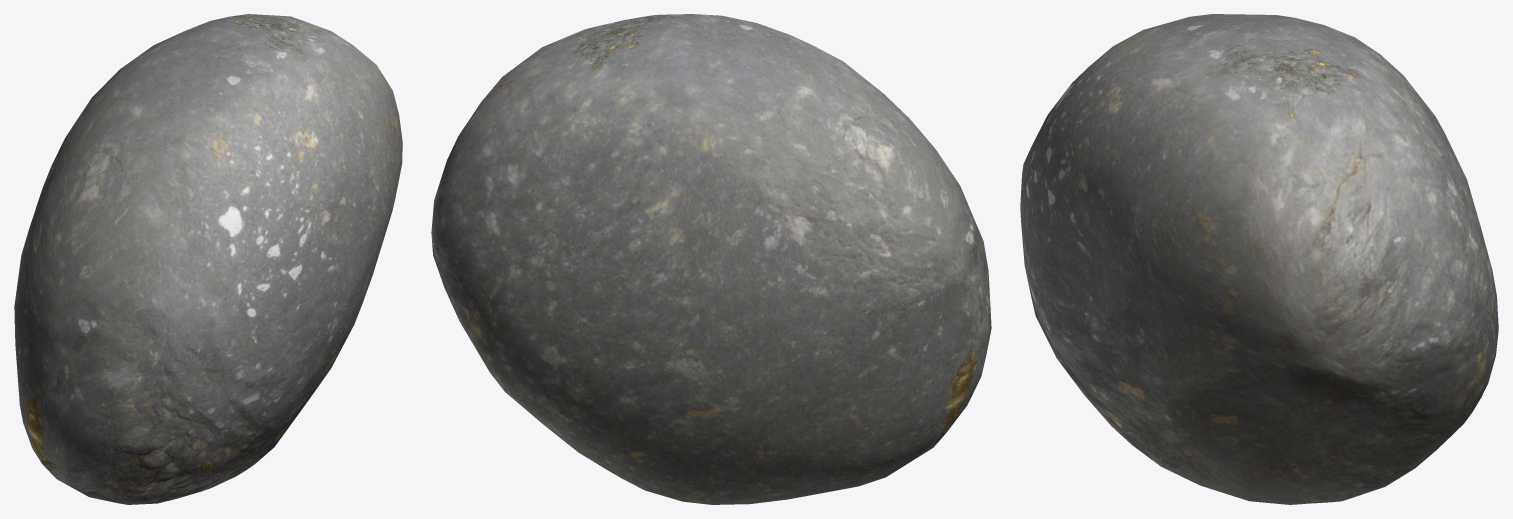
The picture shows the model from 3 angles, left to right: view 1: azimuth 30°, elevation 25°; view 2: azimuth 150°, elevation 25°; view 3: azimuth 270°, elevation 25°; orthographic projection. The views are drawn at different scales.
Parts seen in each view (by area): view 1: Mesh1; view 2: Mesh1; view 3: Mesh1.
Part boxes in pixels (x1,y1,x2,y2): Mesh1: [14, 14, 402, 504]; Mesh1: [431, 14, 991, 504]; Mesh1: [1020, 14, 1498, 504].
Bounding box in the file's own units: 200 × 194 × 172.
1 material, 1 textured.
